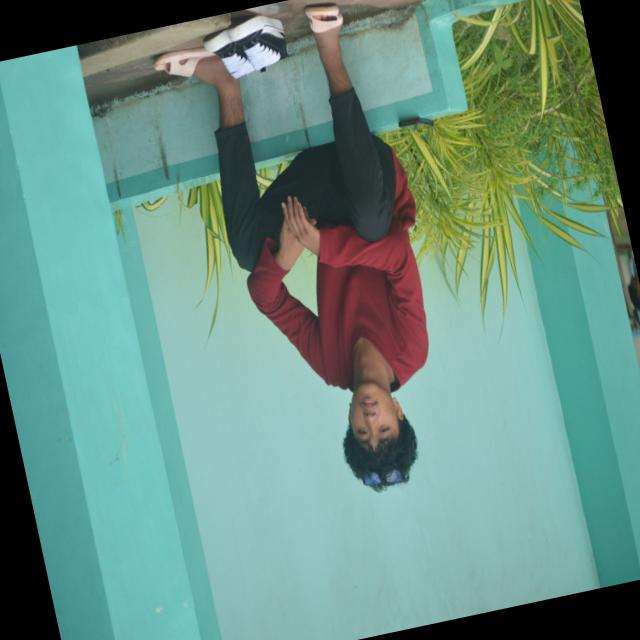person: (155, 5, 428, 490)
